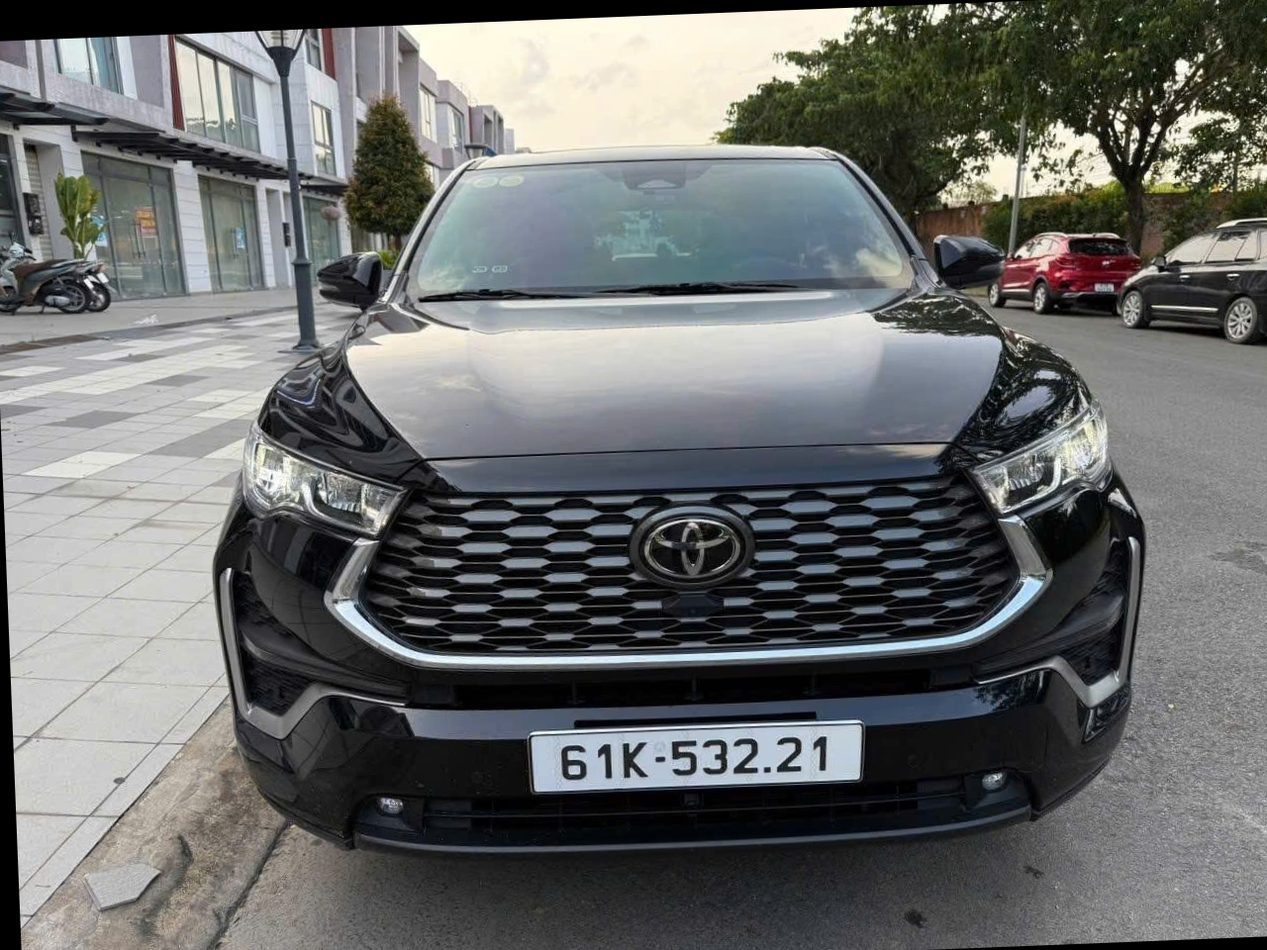Bien-so: (456, 696, 794, 770)
